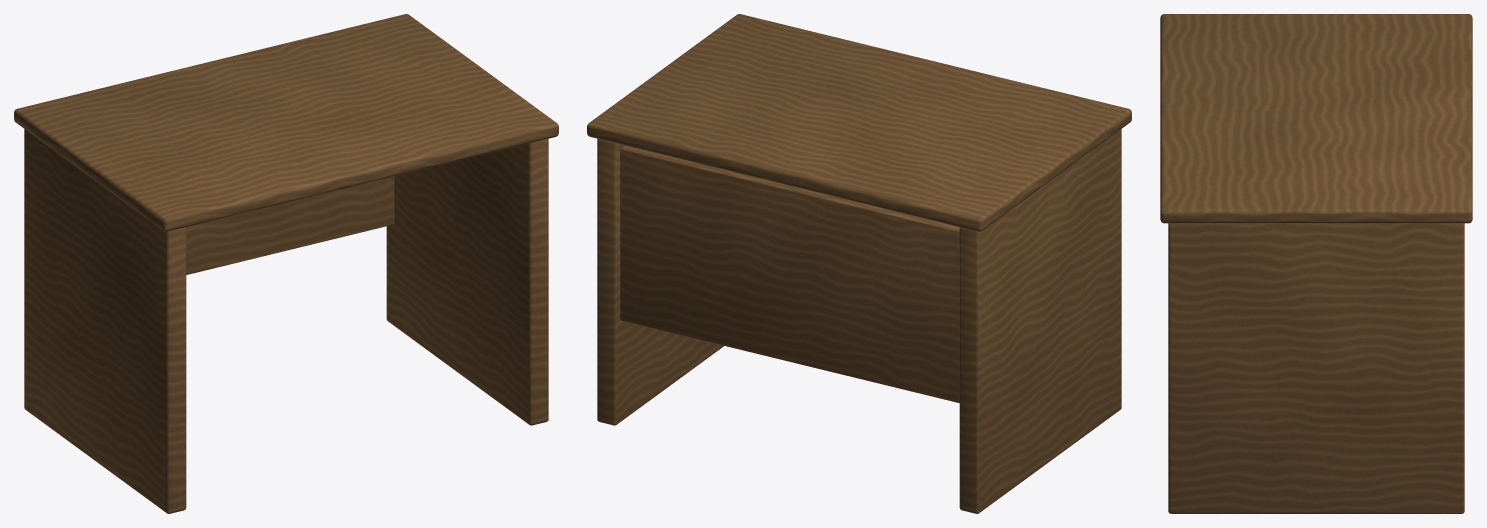
Rendered from log-desk.glb.
The picture shows the model from 3 angles, left to right: view 1: azimuth 30°, elevation 25°; view 2: azimuth 150°, elevation 25°; view 3: azimuth 270°, elevation 25°; orthographic projection. The views are drawn at different scales.
Parts seen in each view (by area): view 1: top, side, side.001, modesty; view 2: top, modesty, side, side.001; view 3: side.001, top.
Boxes of the visible parts, x1=… form: top: x1=14, y1=14, x2=558, y2=231; side: x1=24, y1=129, x2=186, y2=513; side.001: x1=386, y1=138, x2=548, y2=425; modesty: x1=186, y1=176, x2=394, y2=274; top: x1=587, y1=14, x2=1131, y2=231; modesty: x1=620, y1=145, x2=959, y2=402; side: x1=959, y1=129, x2=1121, y2=513; side.001: x1=597, y1=138, x2=723, y2=425; side.001: x1=1168, y1=223, x2=1464, y2=513; top: x1=1160, y1=14, x2=1472, y2=223.
Bounding box in the file's own units: 1.2 × 0.87 × 0.8.
1 material, 1 textured.
